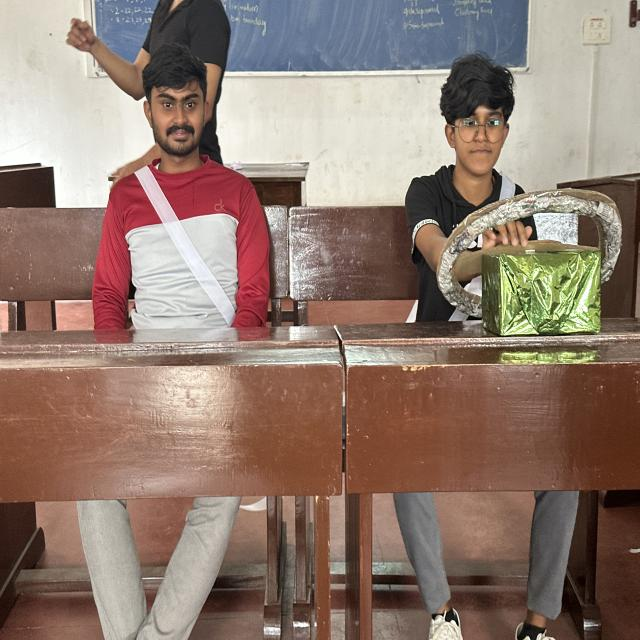seatbelt: (115, 157, 262, 338), (419, 163, 526, 336)
